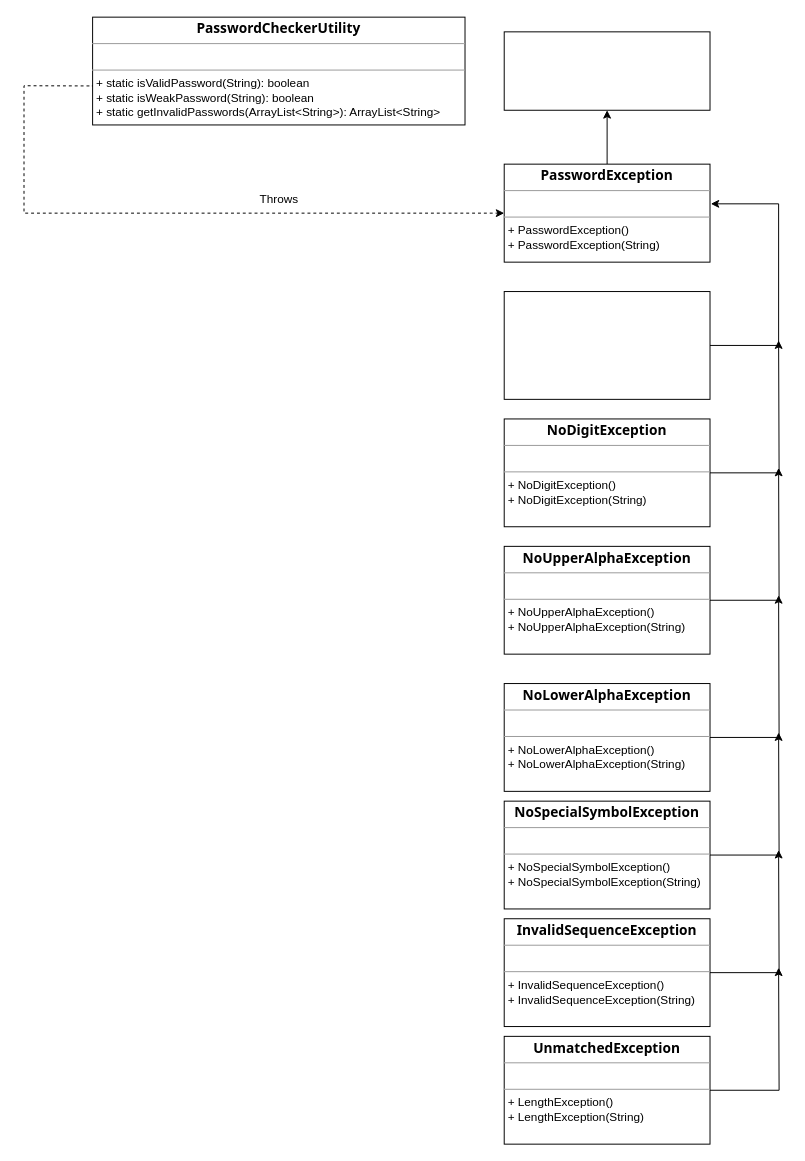
Image size: 805x1161. Some labels were removed from this diagram. The shapes that lost their labels are listed below. From the top down, each one's centre as x and y in pixels, then its label:
the point at 606,70: java.lang.Exception
the point at 606,345: LengthException + LengthException() + LengthException(String)
